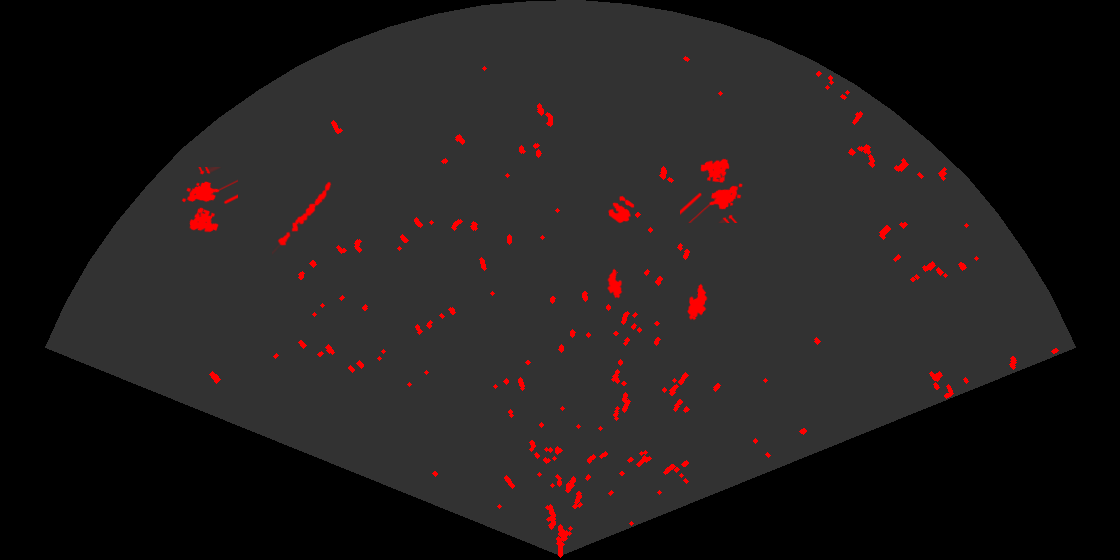AUV: (686, 282, 709, 322), (606, 267, 624, 300)
ball: (607, 194, 636, 225)
cage: (680, 157, 744, 223), (180, 167, 238, 234)
chain: (272, 180, 333, 256)
